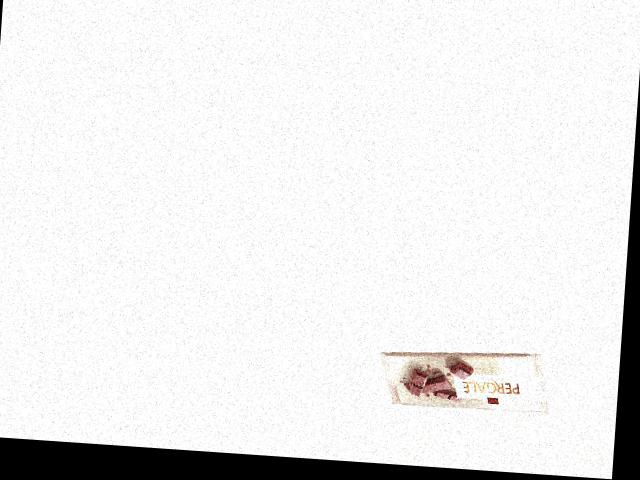chocolate: (373, 344, 554, 414)
